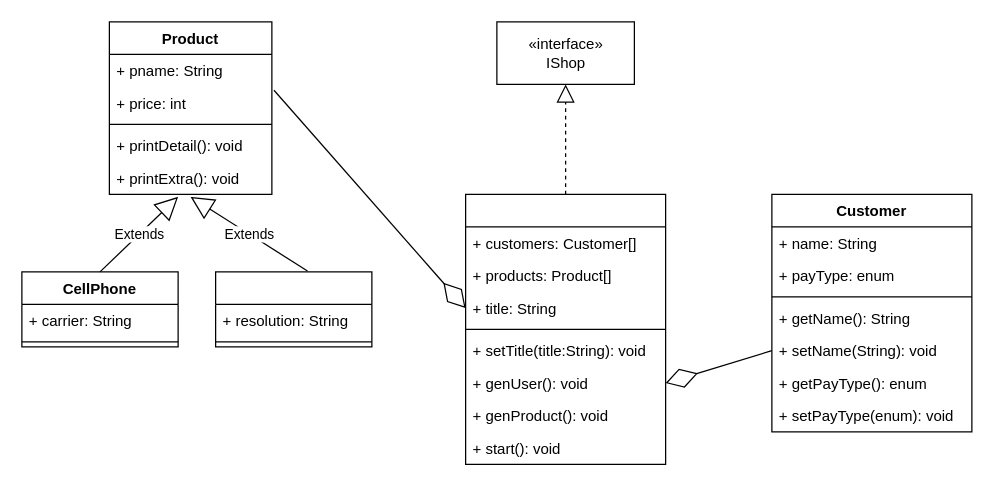
This 994x490 diagram has some shape labels left out. Each missing label, with the box of its shape:
MyShop: (464, 193, 666, 464)
SmartTV: (214, 271, 372, 347)
